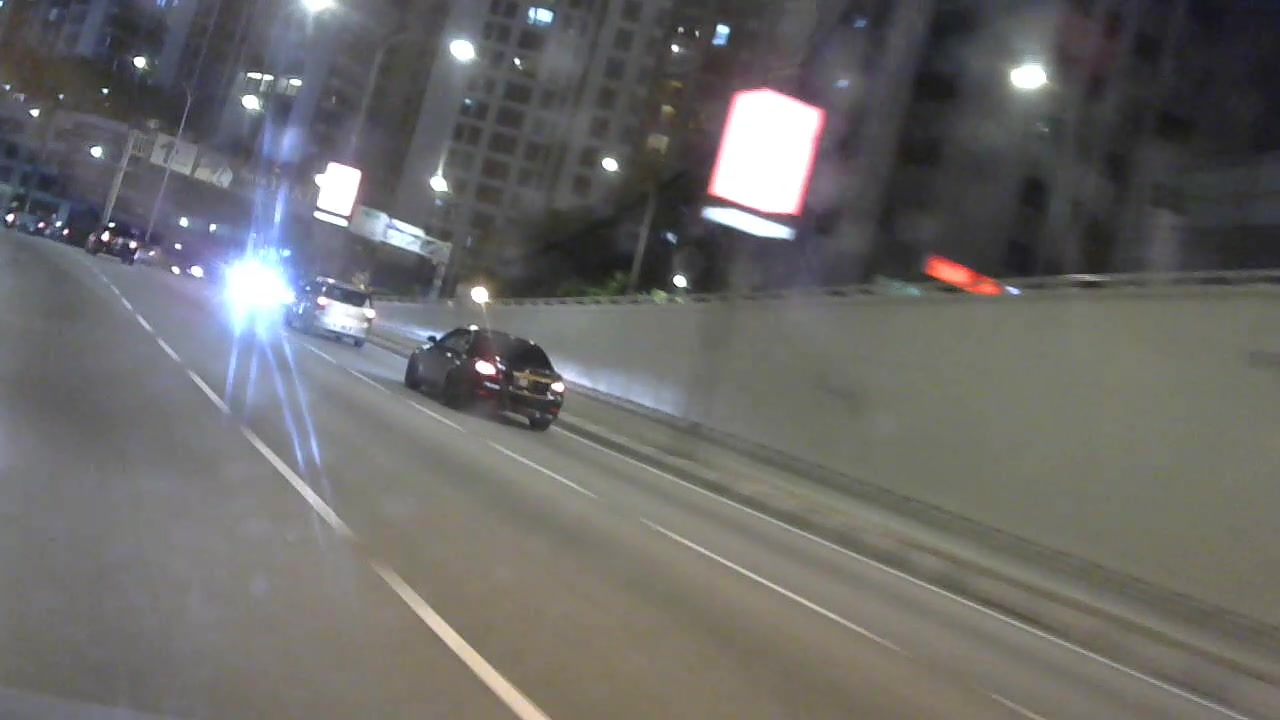Car: (398, 321, 570, 434), (281, 273, 380, 351), (82, 221, 148, 265)
